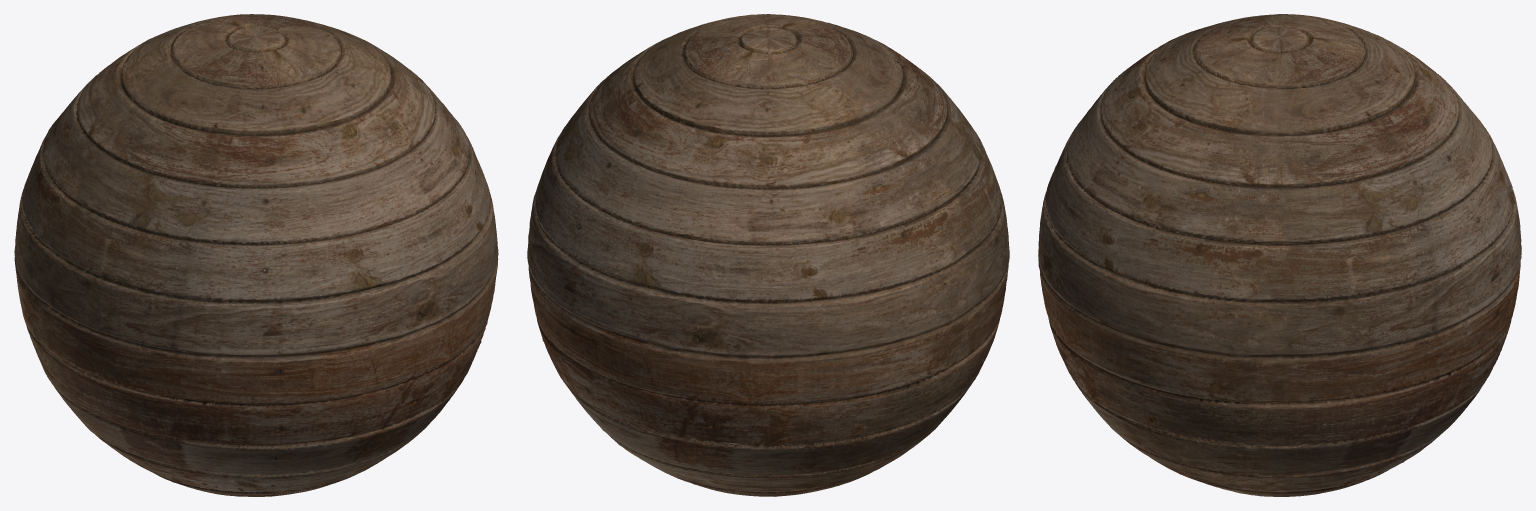
File: weathered_brown_planks_4k.gltf
3 views of the same model, side by side, from view 1: azimuth 30°, elevation 25°; view 2: azimuth 150°, elevation 25°; view 3: azimuth 270°, elevation 25° (orthographic).
Visible parts, largest first — view 1: sphere_gltf; view 2: sphere_gltf; view 3: sphere_gltf.
Boxes of the visible parts, x1=… form: sphere_gltf: x1=14, y1=14, x2=498, y2=496; sphere_gltf: x1=527, y1=14, x2=1009, y2=496; sphere_gltf: x1=1038, y1=14, x2=1521, y2=496.
Size of the model in its own units: 1.82 by 1.82 by 1.82.
Materials: 1 (1 with a texture image).
